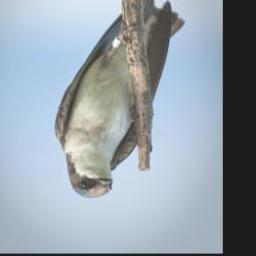Swallow: (54, 0, 186, 200)
